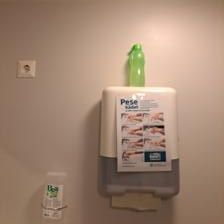bottle: (123, 40, 147, 89)
